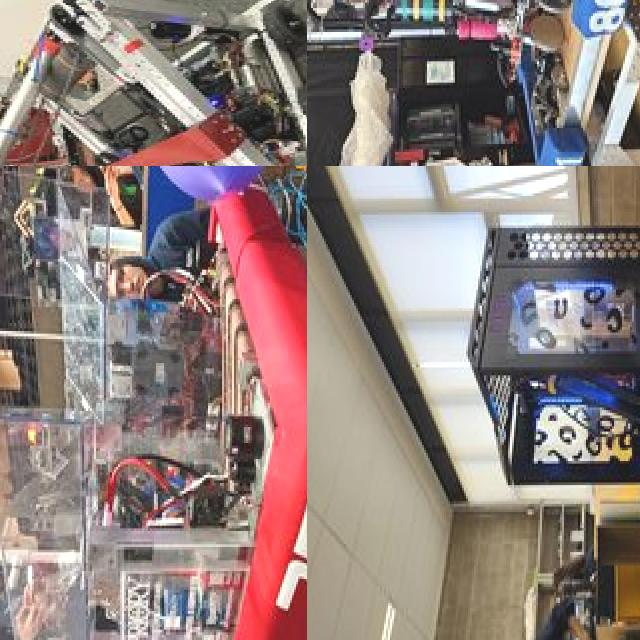FRC-Robots: (21, 166, 307, 640), (462, 170, 640, 580), (307, 0, 640, 166), (0, 0, 307, 166)
